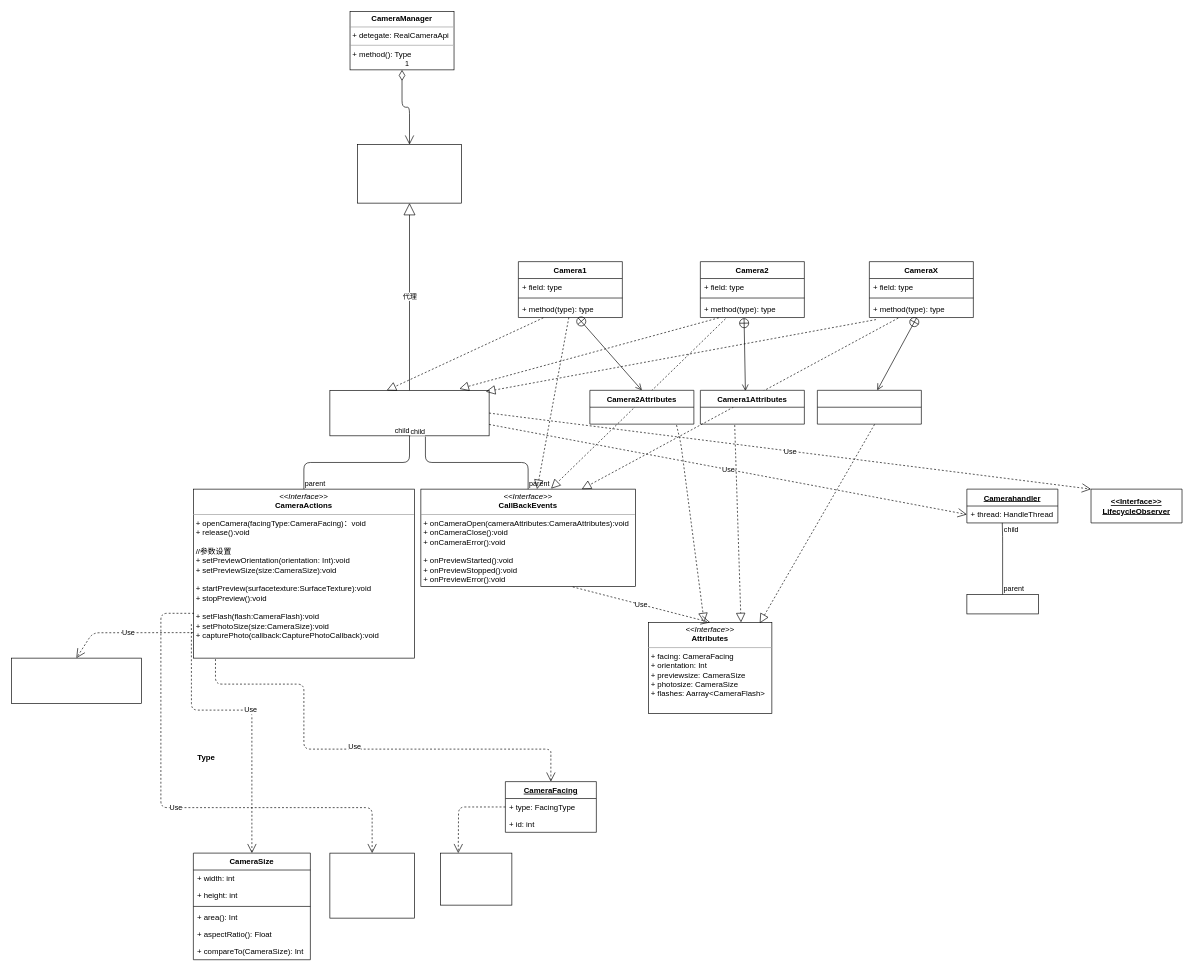
The diagram is 1193 pixels wide and 973 high, and some of its shapes have lost their labels. The shapes that lost their labels are listed below. From the top down, each one's centre as x and y in pixels, then its label:
At pixel 409 173: "RealCameraApi + detegate: CameraApi + method(): Type".
At pixel 409 413: "<<Interface>> CameraApi + camerahandler: CameraHandler".
At pixel 869 407: "CameraXAttributes".
At pixel 1002 604: "Handler".
At pixel 76 680: "<<Interface>> CapturePhotoCallback + onCallBackPhoto(data:byte[]):void".
At pixel 371 885: "FlashType OFF ON AUTO TORCH".
At pixel 476 878: "FacingType BACK FRONT OTHER".
